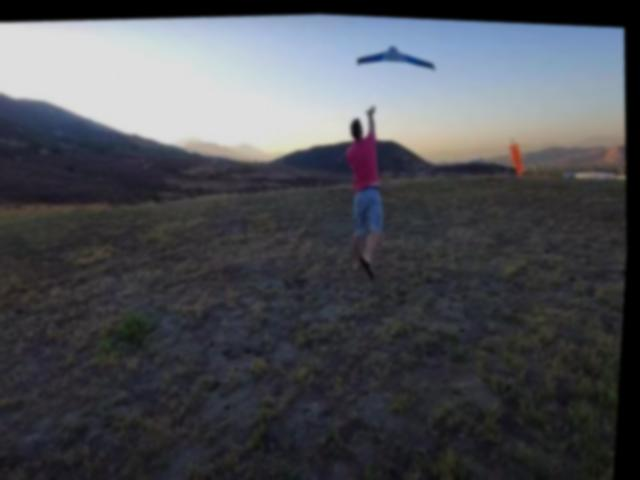iha: (355, 32, 436, 70)
